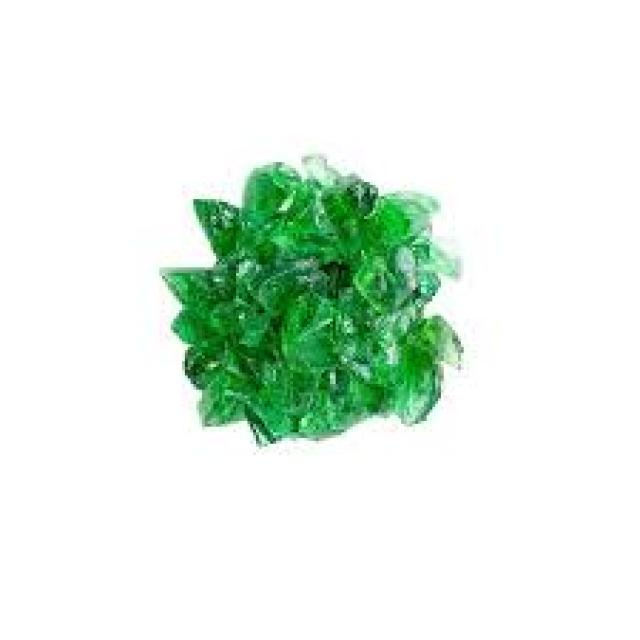glass: (313, 188, 404, 267), (208, 265, 279, 359), (276, 284, 353, 367), (239, 160, 296, 268), (336, 324, 395, 404), (381, 338, 435, 424), (273, 390, 364, 435), (313, 364, 381, 424), (248, 214, 322, 265), (225, 327, 284, 390), (191, 191, 236, 270), (160, 293, 231, 341), (179, 330, 239, 384), (239, 378, 290, 438), (151, 259, 216, 304), (410, 313, 461, 370), (290, 157, 339, 216), (196, 358, 239, 421), (384, 185, 435, 236), (356, 250, 393, 319), (404, 236, 455, 279), (325, 174, 376, 211), (399, 264, 433, 313)
